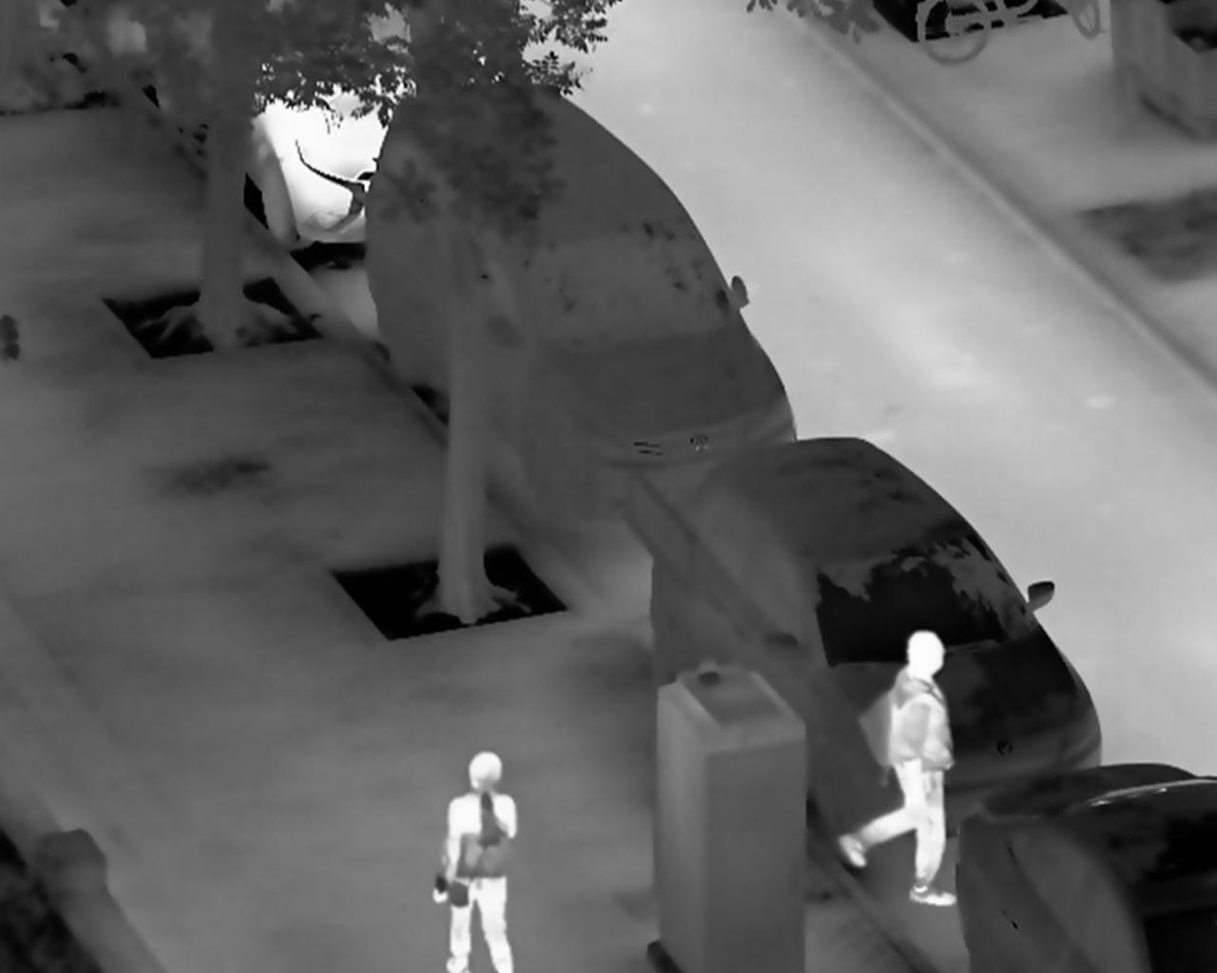person: (838, 628, 958, 911), (430, 748, 520, 973)
